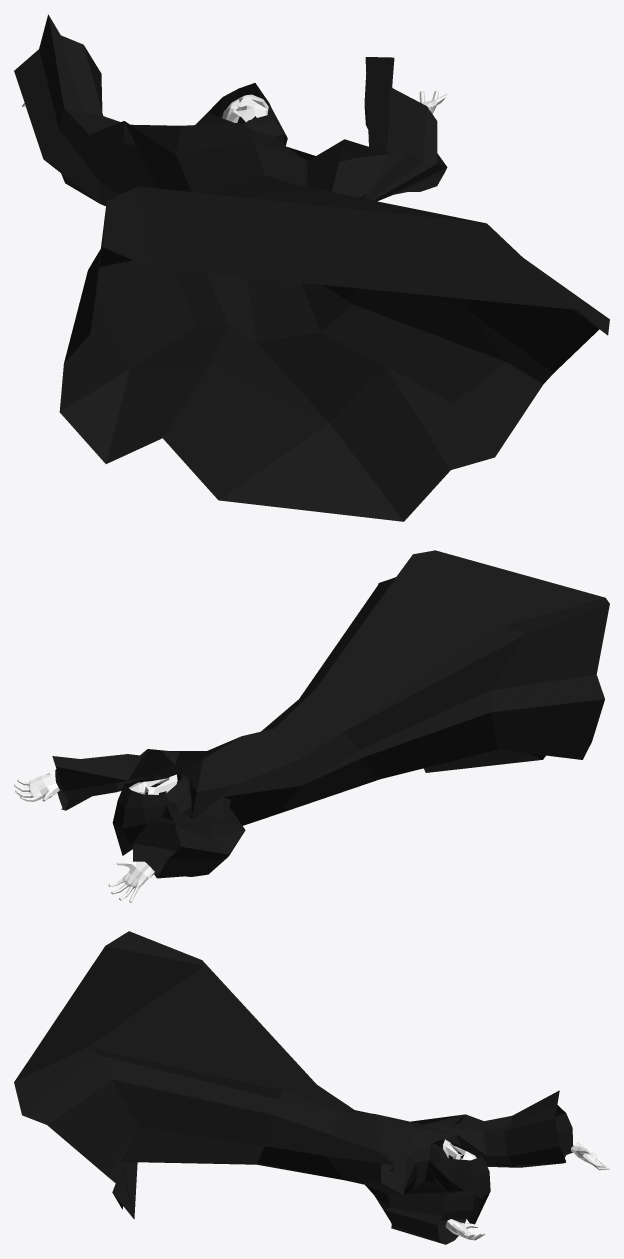
Rendered from ReaperDead(101).obj.
The picture shows the model from 3 angles, top to bottom: view 1: azimuth 30°, elevation 25°; view 2: azimuth 150°, elevation 25°; view 3: azimuth 270°, elevation 25°; orthographic projection. The views are drawn at different scales.
Visible parts, largest first — view 1: Plane003; view 2: Plane003; view 3: Plane003.
Boxes of the visible parts, x1,y1,x2,y2 form: Plane003: (14, 14, 609, 521); Plane003: (14, 550, 609, 902); Plane003: (14, 931, 609, 1244).
Size of the model in its own units: 213 by 106 by 293.
